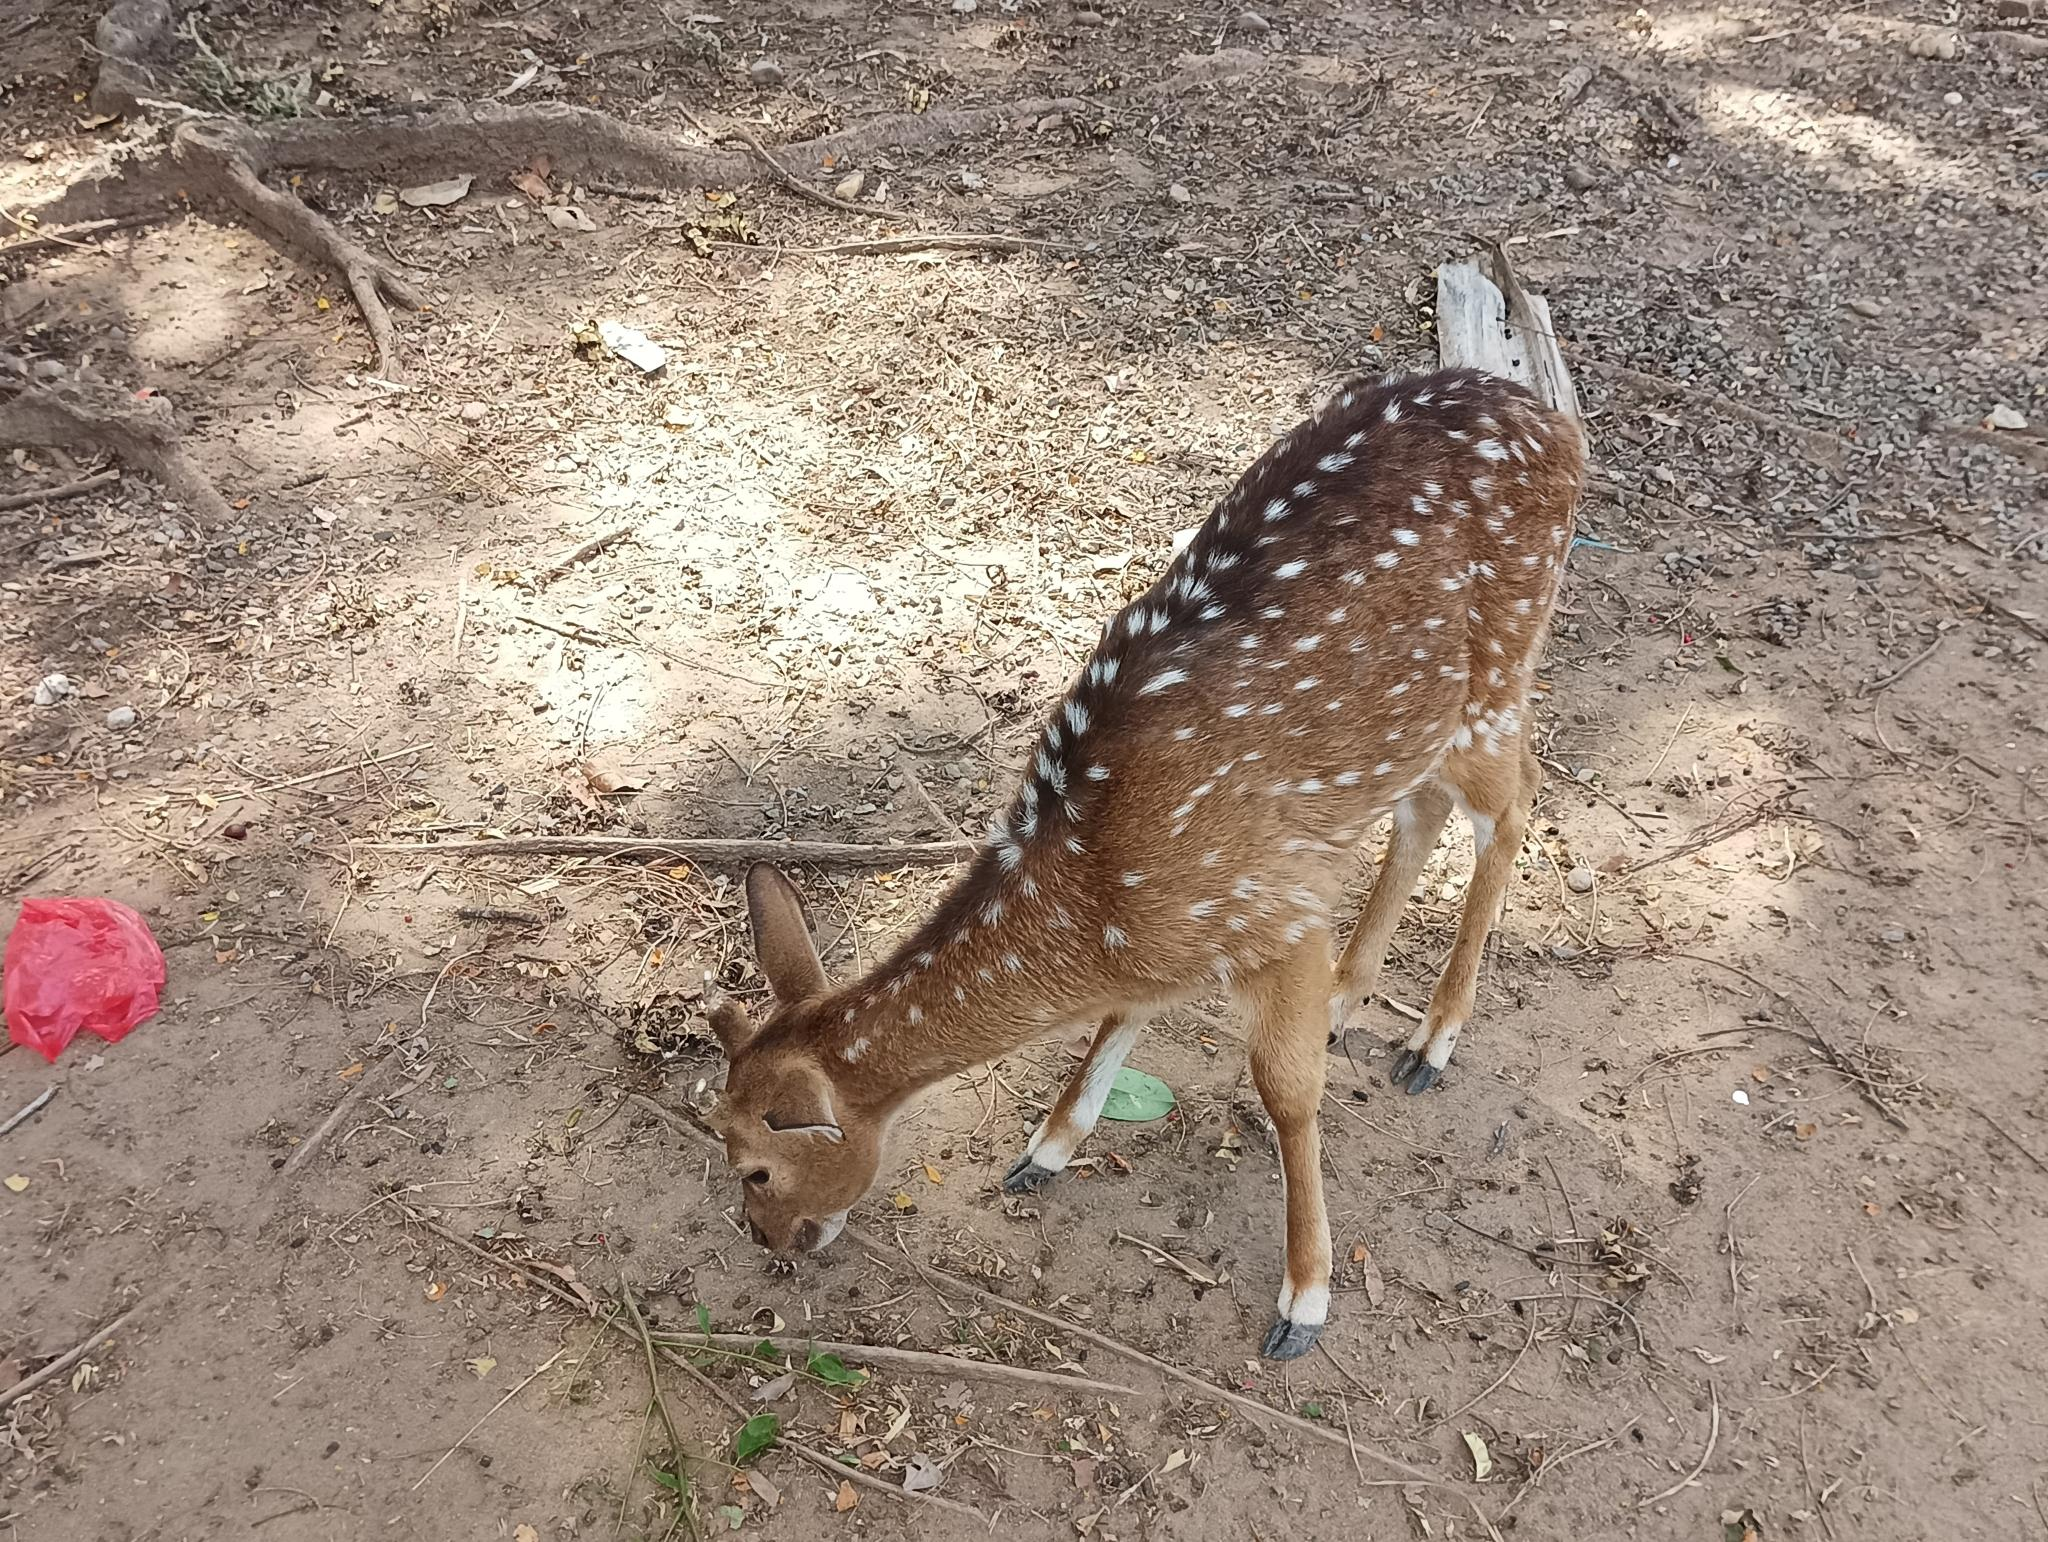Deer: (707, 368, 1587, 1356)
